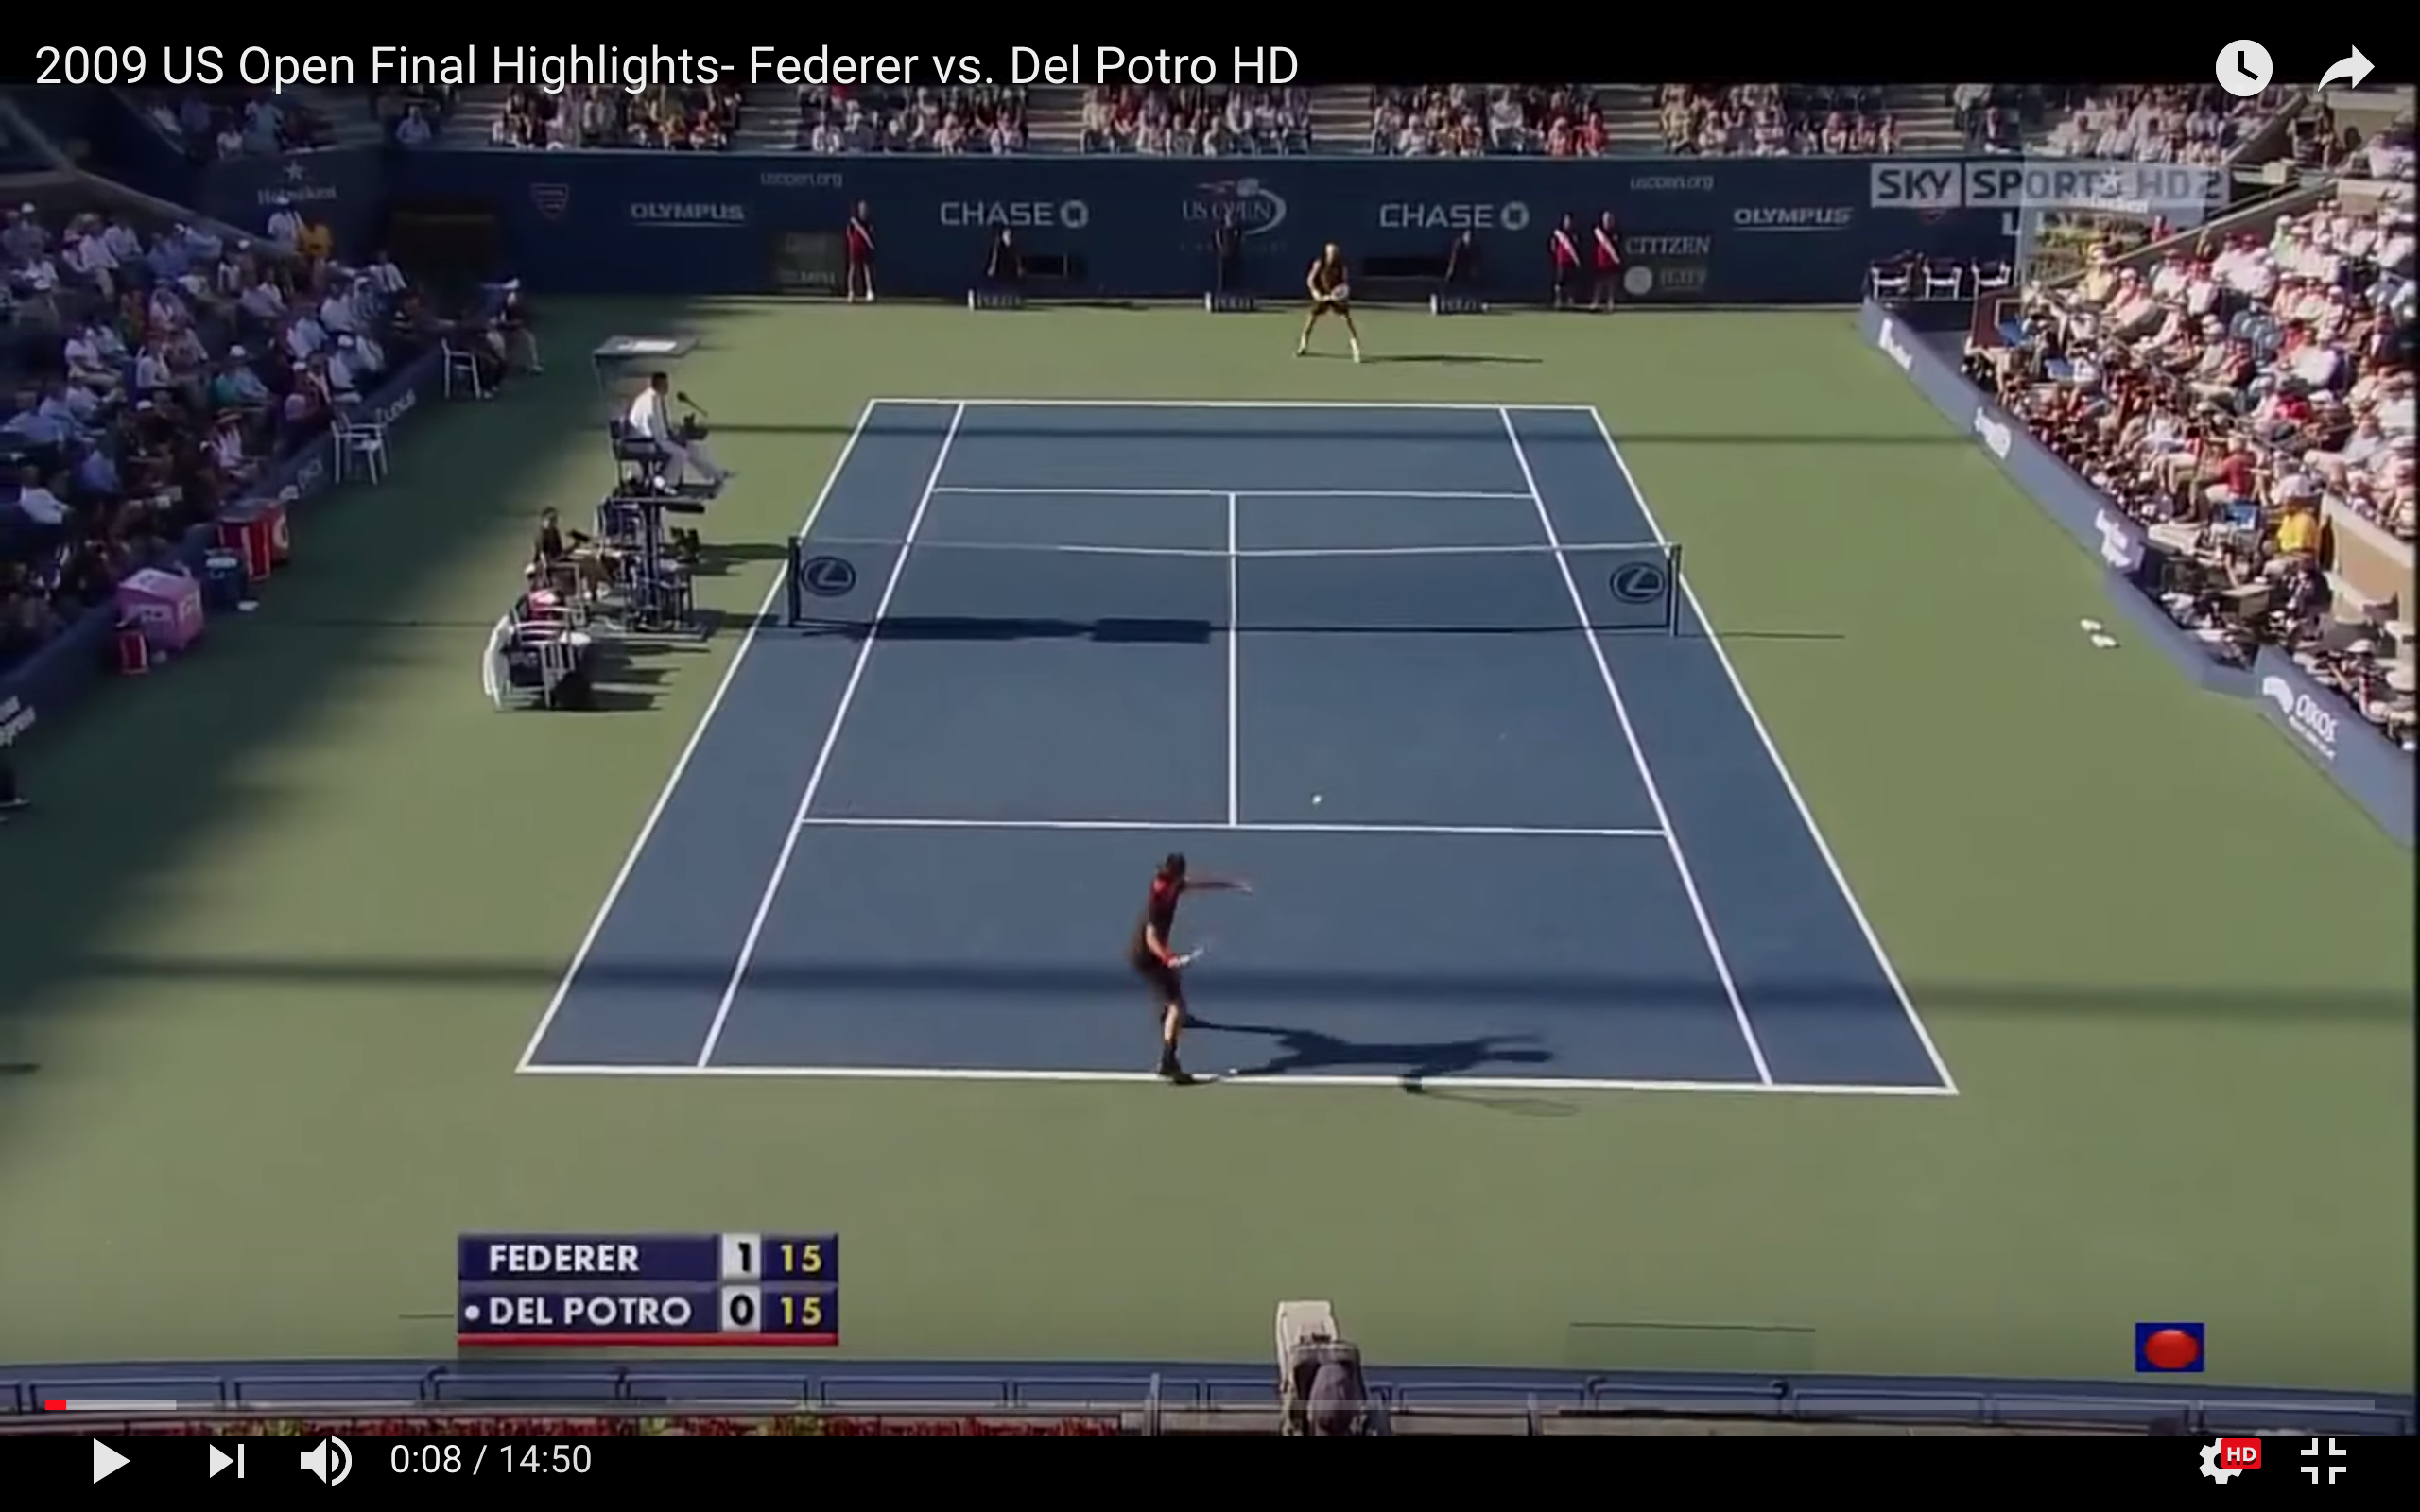tennis ball: (1307, 786, 1331, 814)
tennis player: (1126, 843, 1253, 1087), (1299, 241, 1381, 367)
